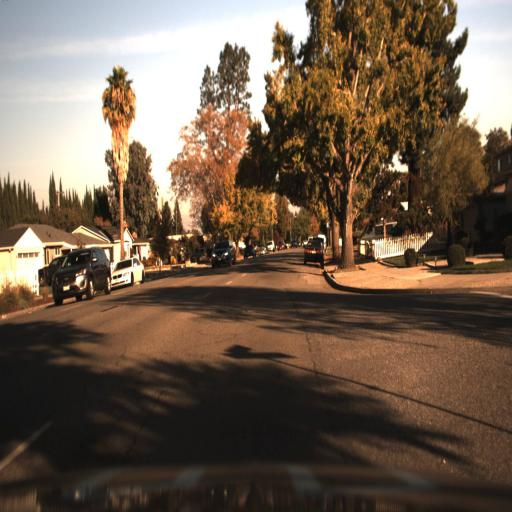car: (52, 248, 112, 308), (112, 252, 144, 292), (205, 233, 236, 273), (301, 236, 328, 272), (208, 234, 238, 266), (34, 258, 56, 283), (240, 240, 256, 262)
